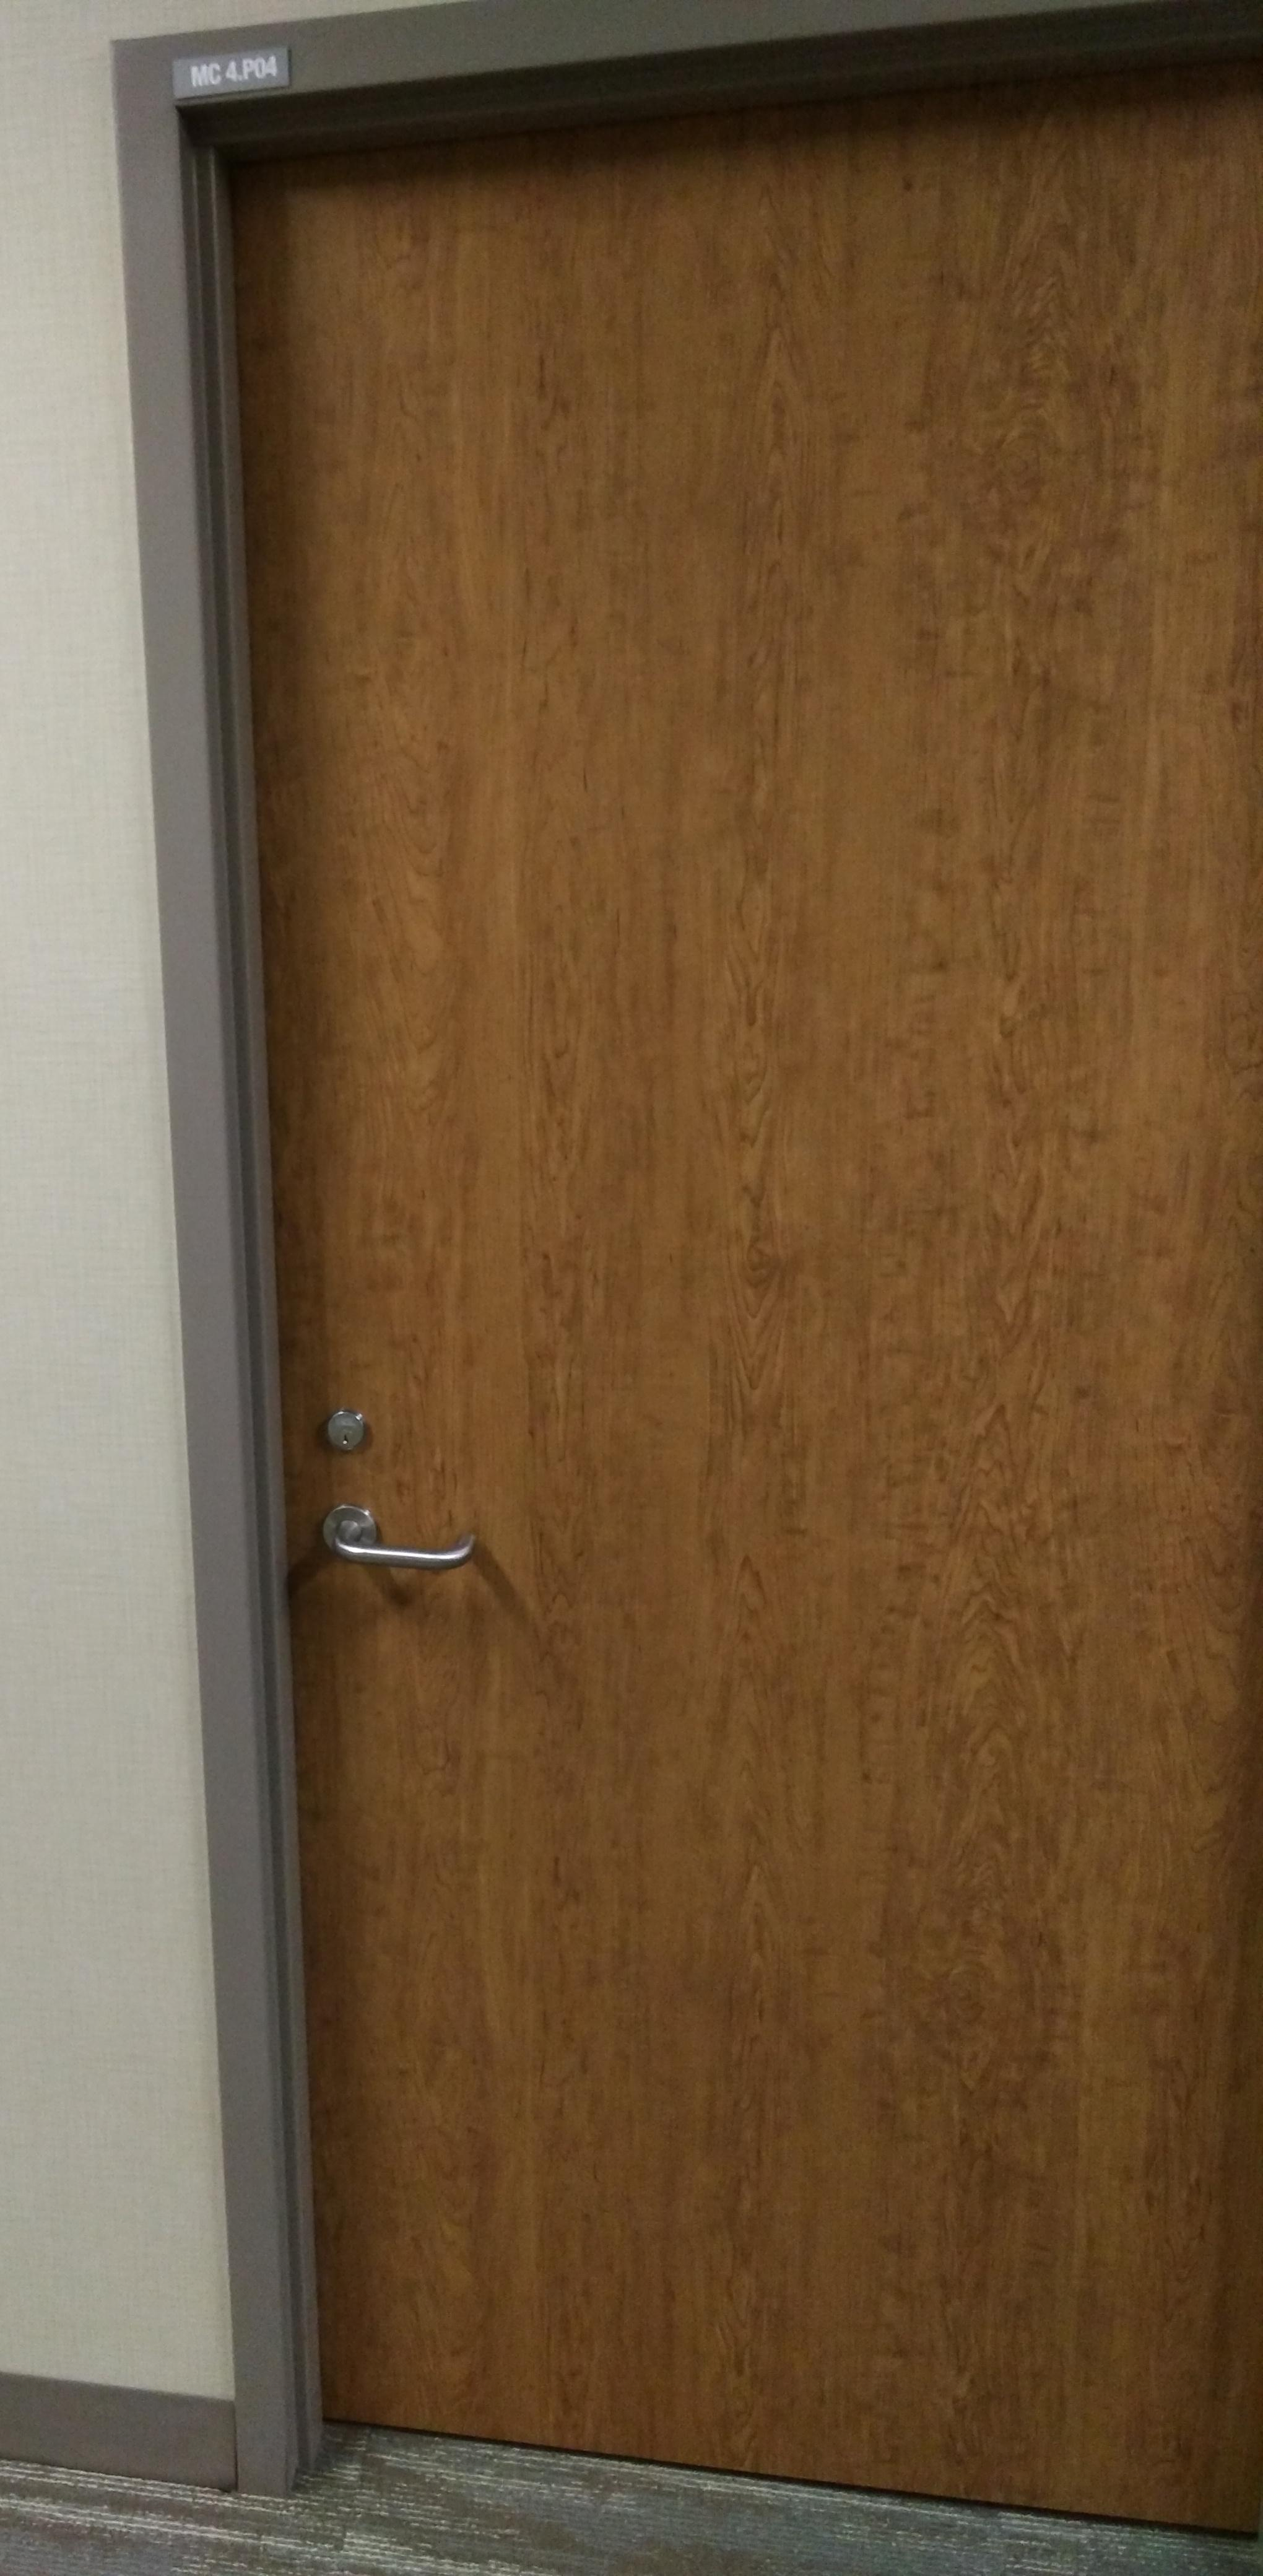door: (149, 43, 1263, 2517)
